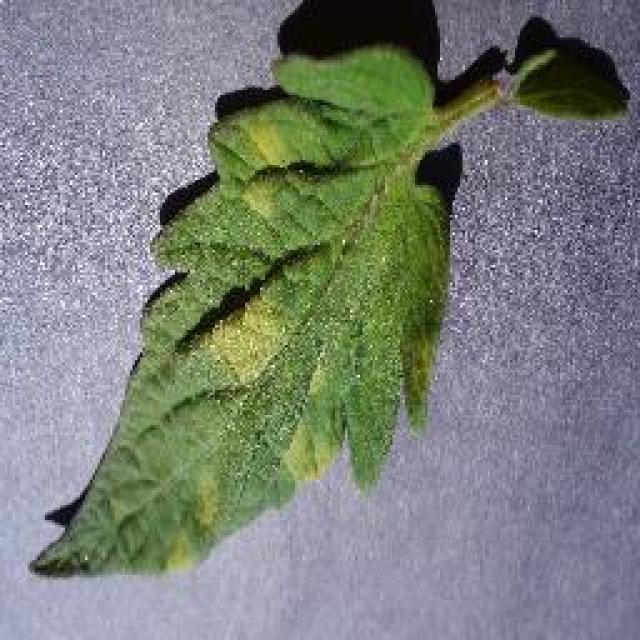Tomato___Leaf_Mold: (30, 18, 630, 578)
